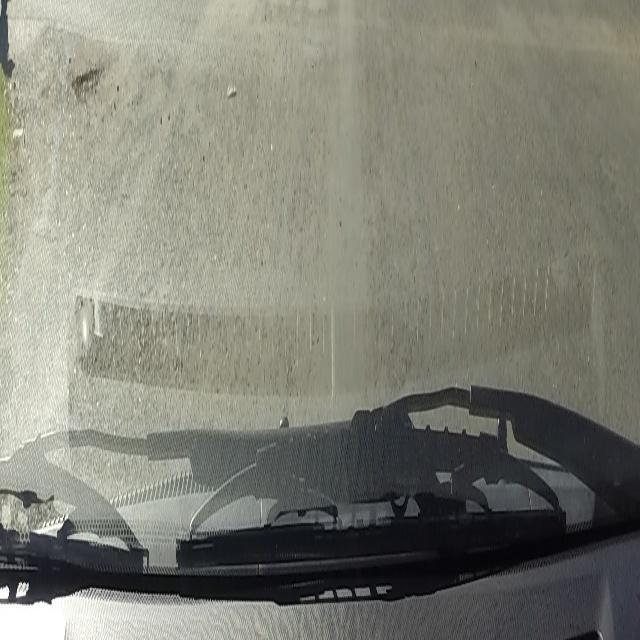pothole: (70, 64, 104, 106)
